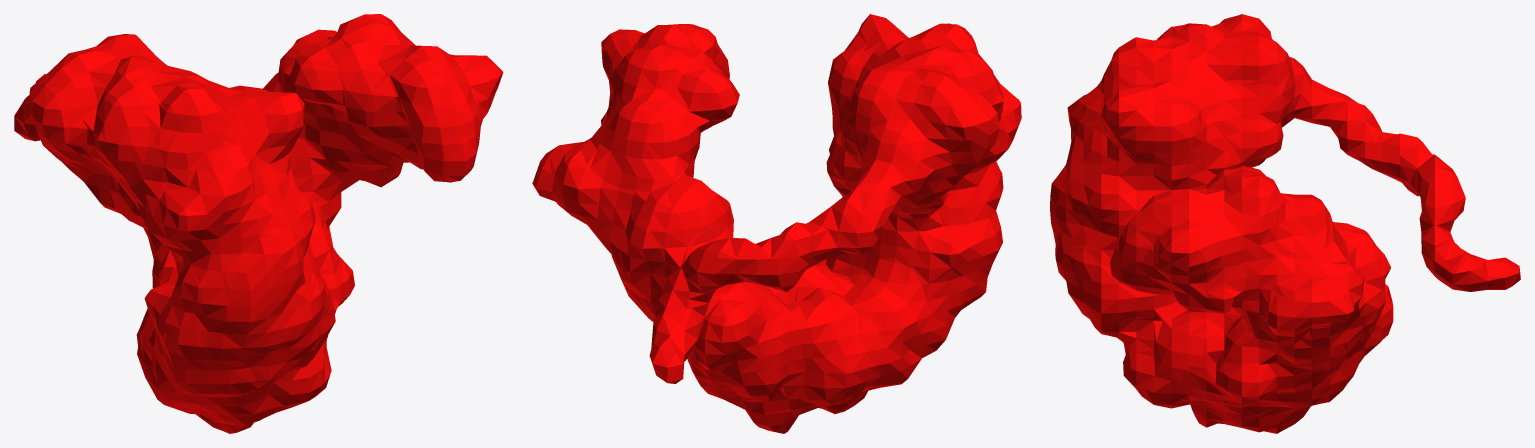
File: mdoH_coarse.dae
The picture shows the model from 3 angles, left to right: view 1: azimuth 30°, elevation 25°; view 2: azimuth 150°, elevation 25°; view 3: azimuth 270°, elevation 25°; orthographic projection. The views are drawn at different scales.
Visible parts, largest first — view 1: mdoH; view 2: mdoH; view 3: mdoH.
Part boxes in pixels (x1=…): mdoH: x1=14, y1=14, x2=503, y2=433; mdoH: x1=532, y1=14, x2=1021, y2=433; mdoH: x1=1050, y1=14, x2=1520, y2=433.
Size of the model in its own units: 106 by 93.1 by 112.
